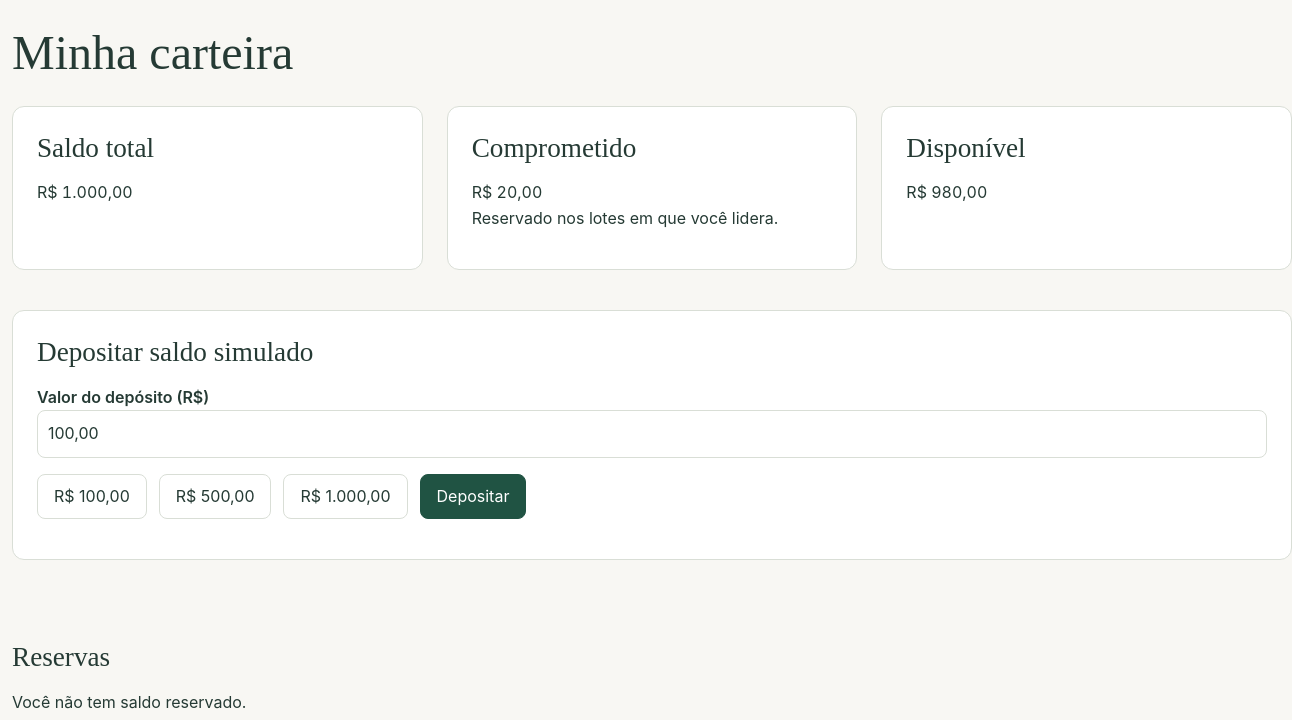
it: explica limite de saldo
Click the button "Depositar".
click(473, 496)  # box [420,474,526,519]
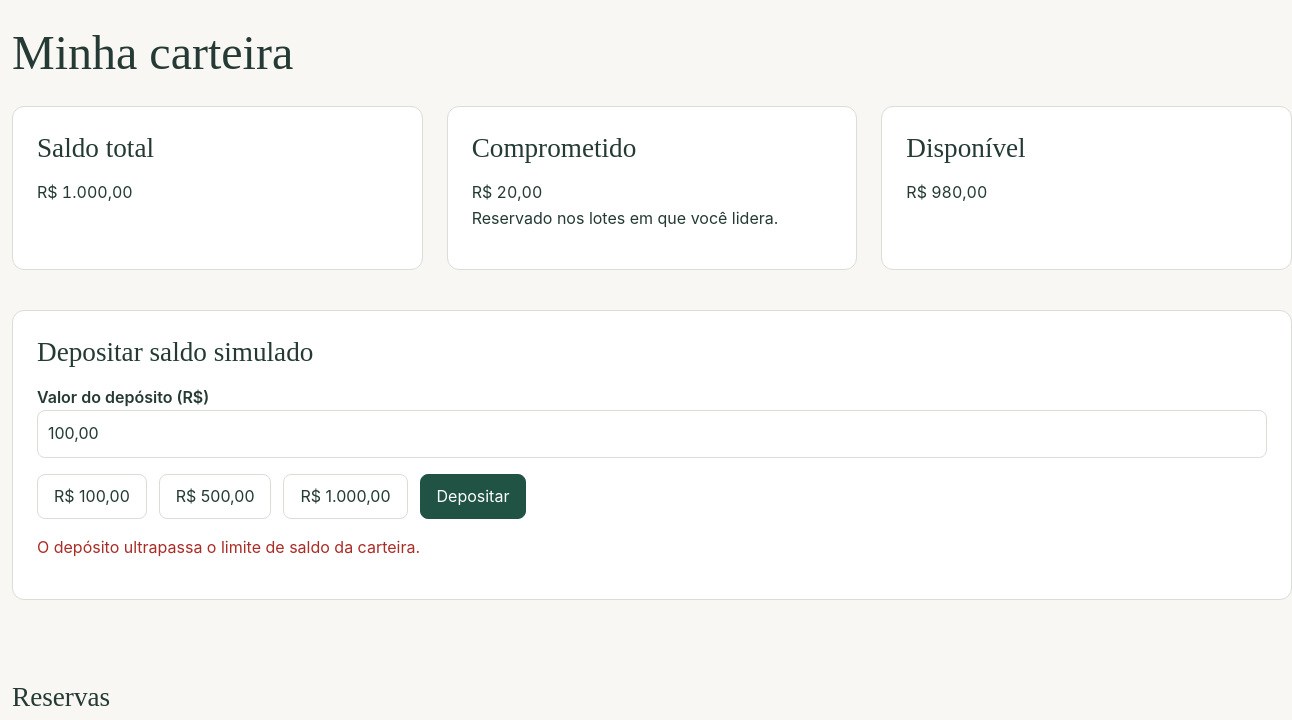
Now the message shows "limite de saldo", box [37,537,420,557]
